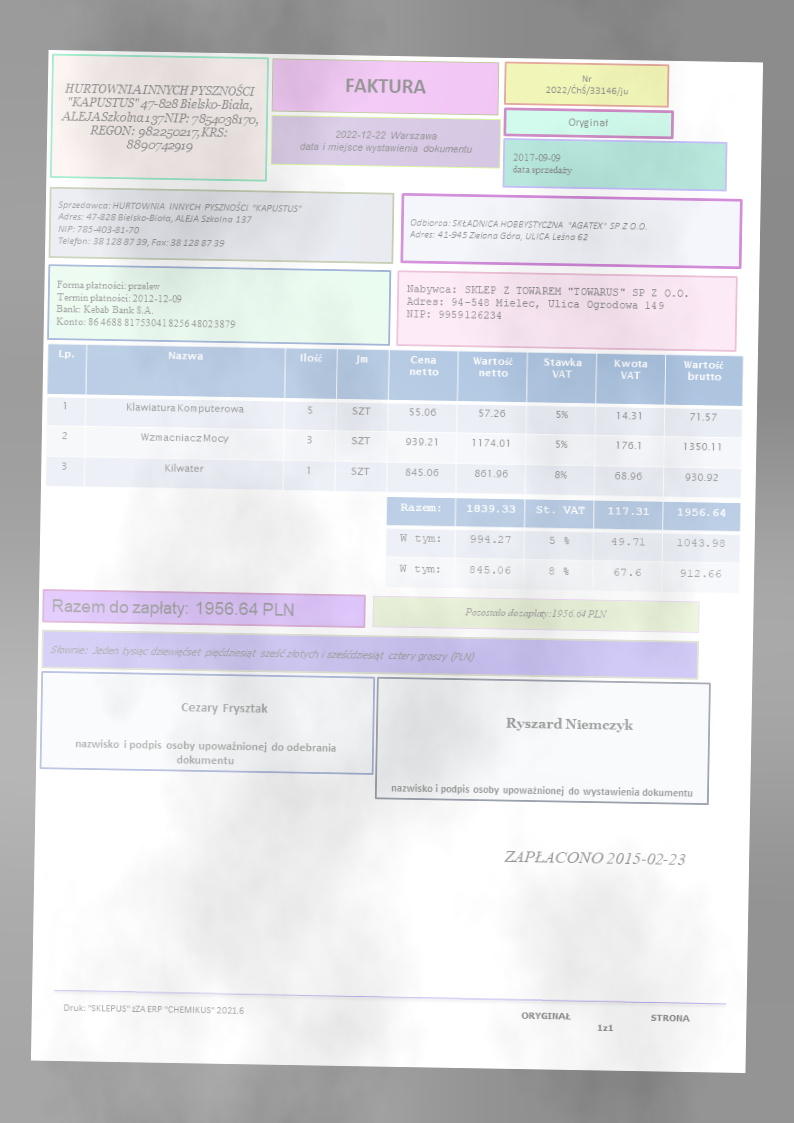Table: (44, 342, 744, 500), (384, 496, 743, 594)
TextBox: (58, 80, 262, 156), (55, 199, 304, 252), (404, 281, 692, 325), (55, 277, 239, 331), (49, 642, 476, 665), (71, 736, 339, 767), (407, 214, 649, 244), (49, 595, 296, 621), (388, 781, 695, 801), (299, 127, 475, 156), (517, 1009, 692, 1036), (502, 847, 688, 868), (61, 1002, 246, 1017), (505, 713, 635, 734), (463, 605, 610, 621), (544, 72, 631, 99), (343, 75, 428, 97), (510, 150, 573, 177), (180, 699, 269, 716), (567, 115, 610, 130)
